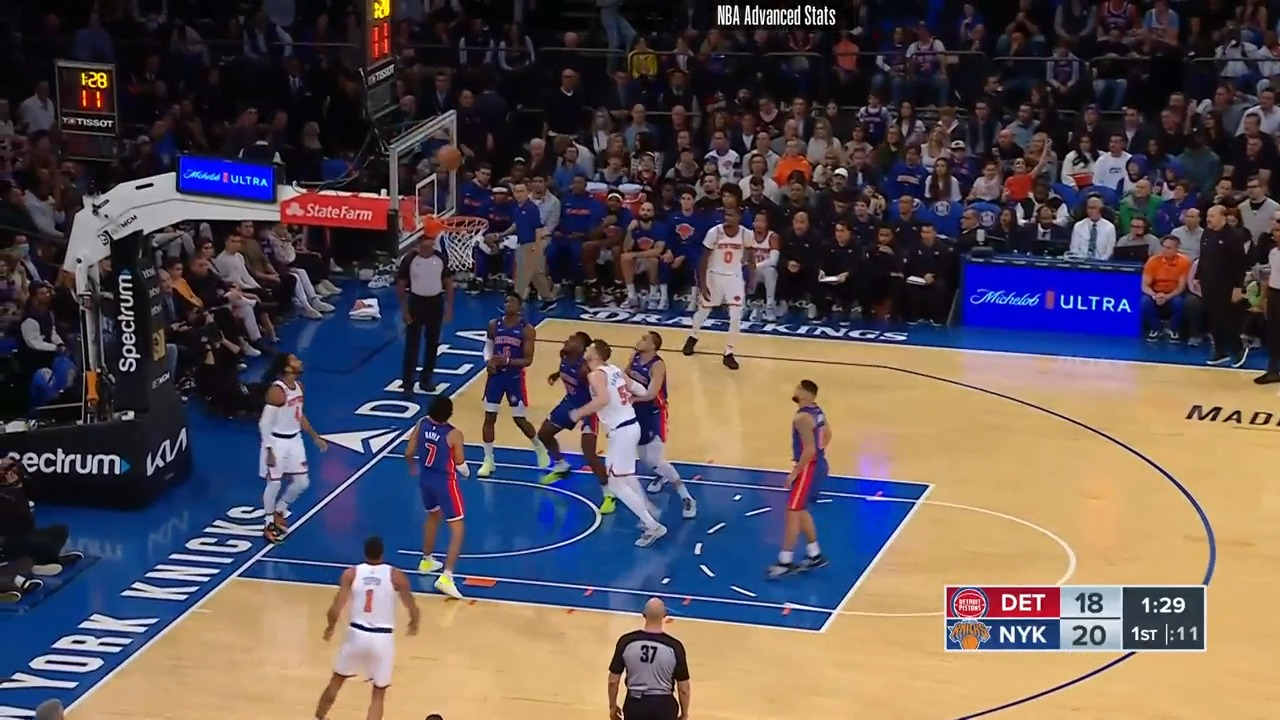net: (421, 208, 490, 269)
player: (305, 533, 426, 719), (609, 328, 704, 539), (579, 334, 667, 549), (483, 295, 558, 483), (681, 208, 765, 374), (770, 375, 835, 582), (407, 388, 469, 605), (255, 349, 323, 544), (542, 333, 605, 488)
referee: (603, 596, 694, 720), (394, 232, 455, 396), (1255, 228, 1280, 395)
